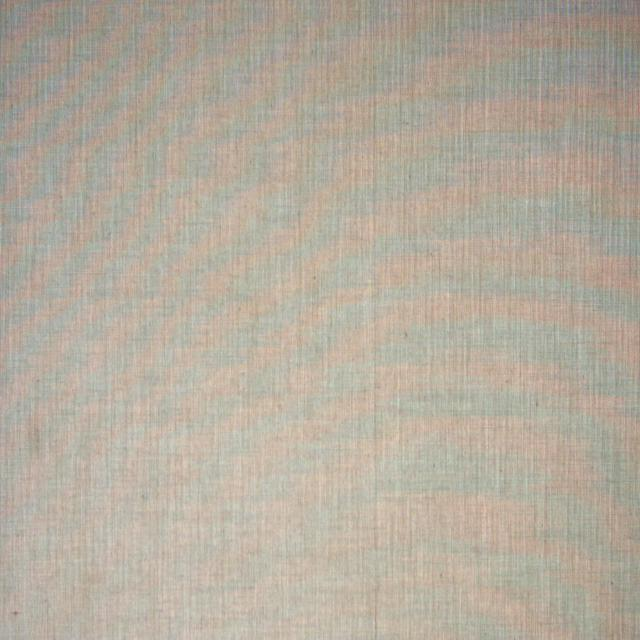dirty: (26, 421, 41, 455), (12, 609, 18, 618)
